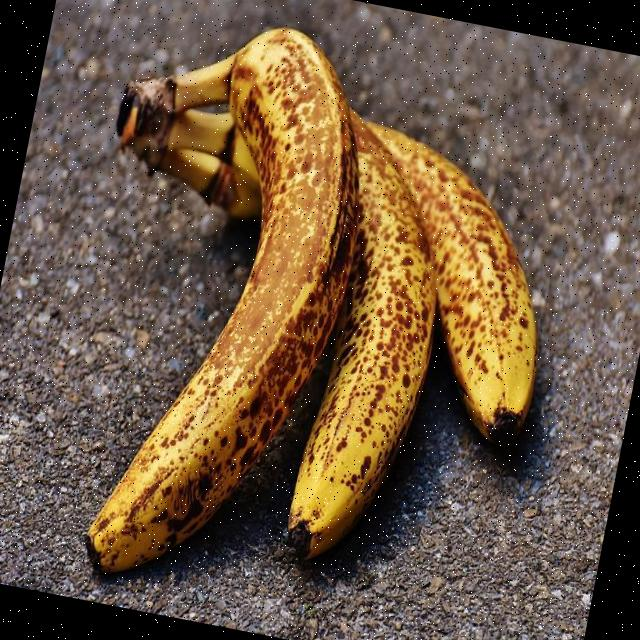banana-peel: (29, 0, 594, 640), (303, 114, 580, 453)
